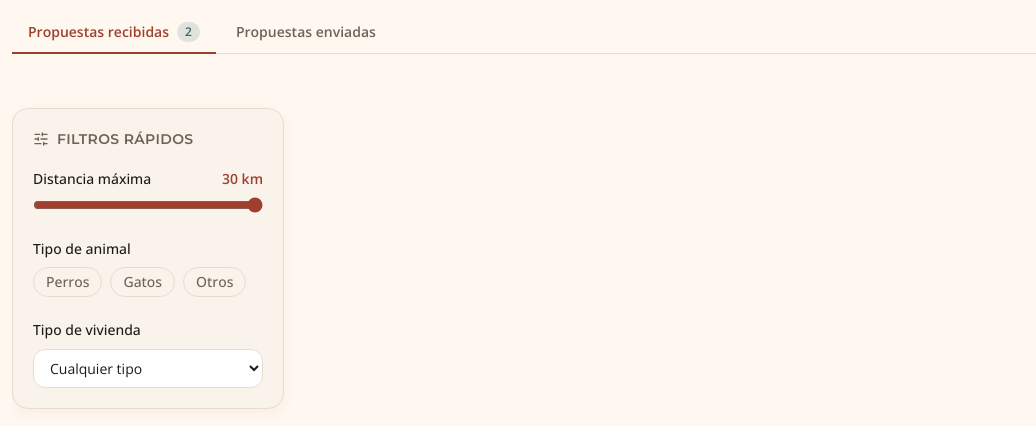
Test: GestionAcogidas › filtra por distancia máxima con el deslizador
// Baja el máximo a 10 km: Jon (18 km) desaparece, Ane (4.2 km) permanece
Set the slider labelled "Distancia máxima" to "10" at (107, 205), box [33,197,263,213]
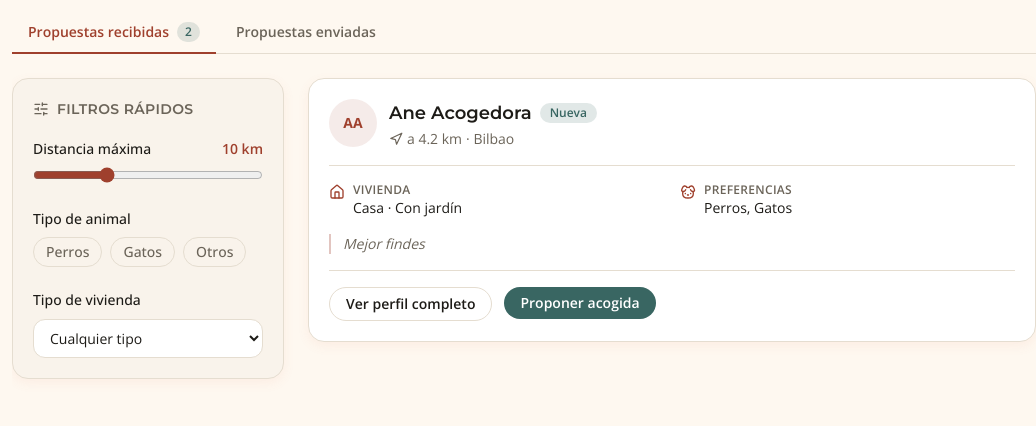
Expected: the heading "Ane Acogedora" is shown, [389,99,532,127]
